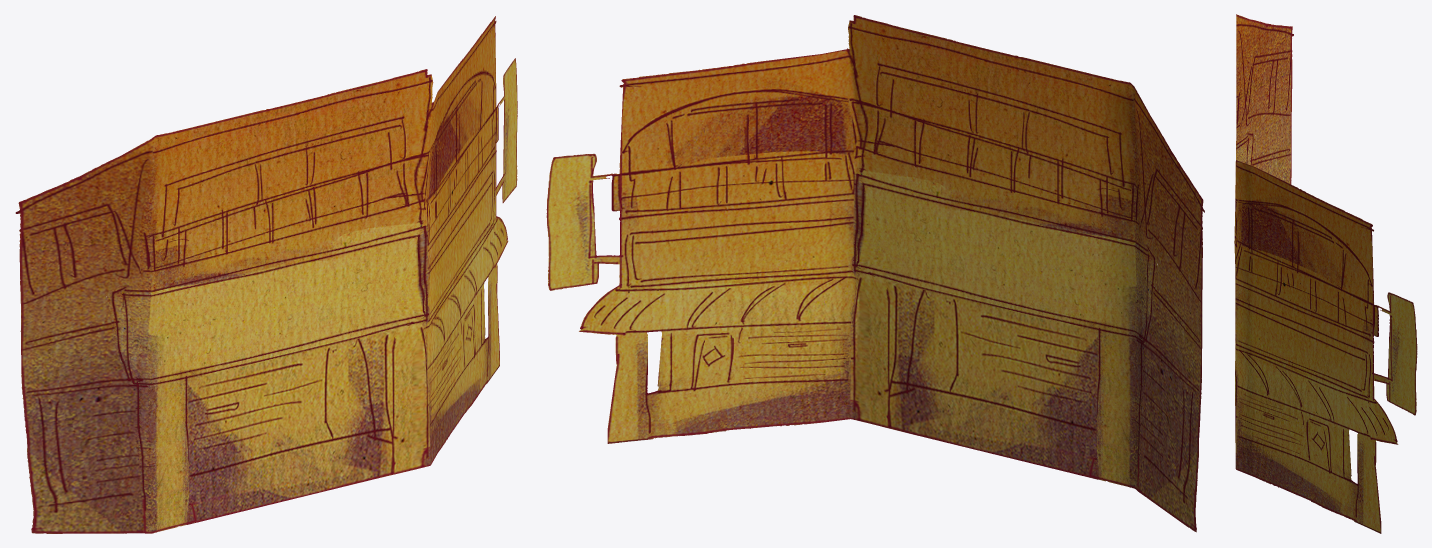
The model's file is 02_front_bld_05.fbx.
3 views of the same model, side by side, from view 1: azimuth 30°, elevation 25°; view 2: azimuth 150°, elevation 25°; view 3: azimuth 270°, elevation 25° (orthographic). The views are drawn at different scales.
Visible parts, largest first — view 1: 02_前_房子_05; view 2: 02_前_房子_05; view 3: 02_前_房子_05.
Part boxes in pixels (x1=…): 02_前_房子_05: x1=15, y1=16, x2=517, y2=533; 02_前_房子_05: x1=546, y1=15, x2=1204, y2=532; 02_前_房子_05: x1=1234, y1=14, x2=1417, y2=533.
Size of the model in its own units: 331 by 219 by 106.
1 material, 1 textured.
